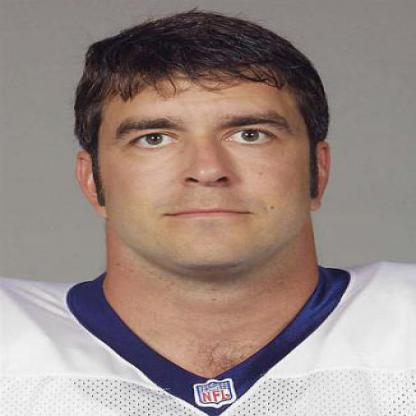face: (93, 16, 320, 277)
